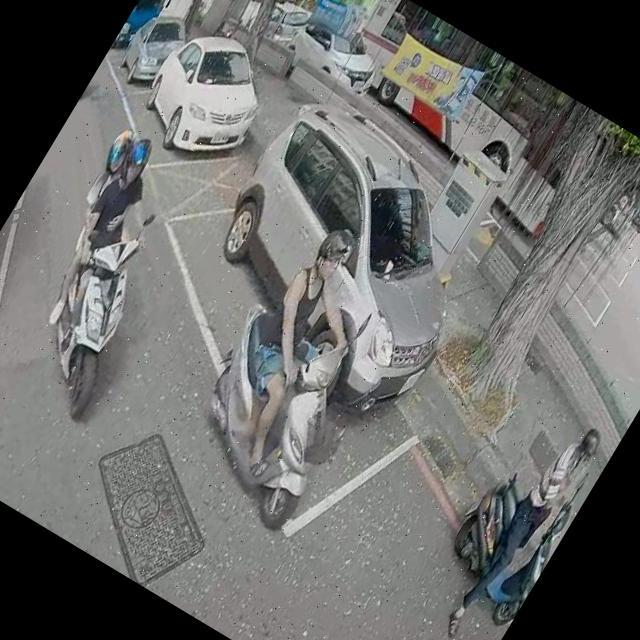person: (194, 213, 410, 488), (18, 128, 194, 364), (440, 409, 614, 640), (23, 126, 178, 330)
